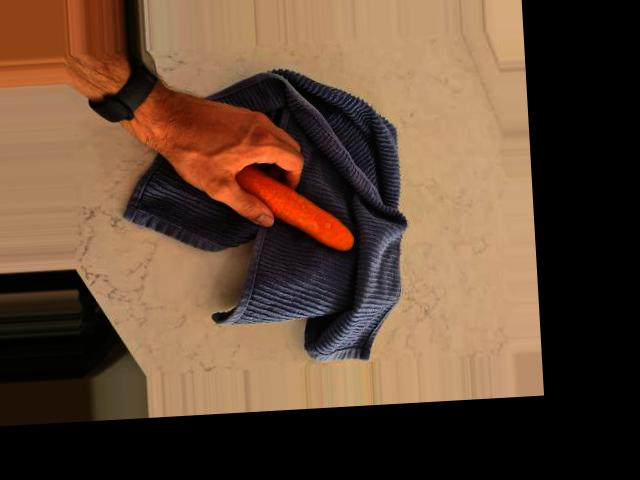carrot: (227, 161, 356, 260)
